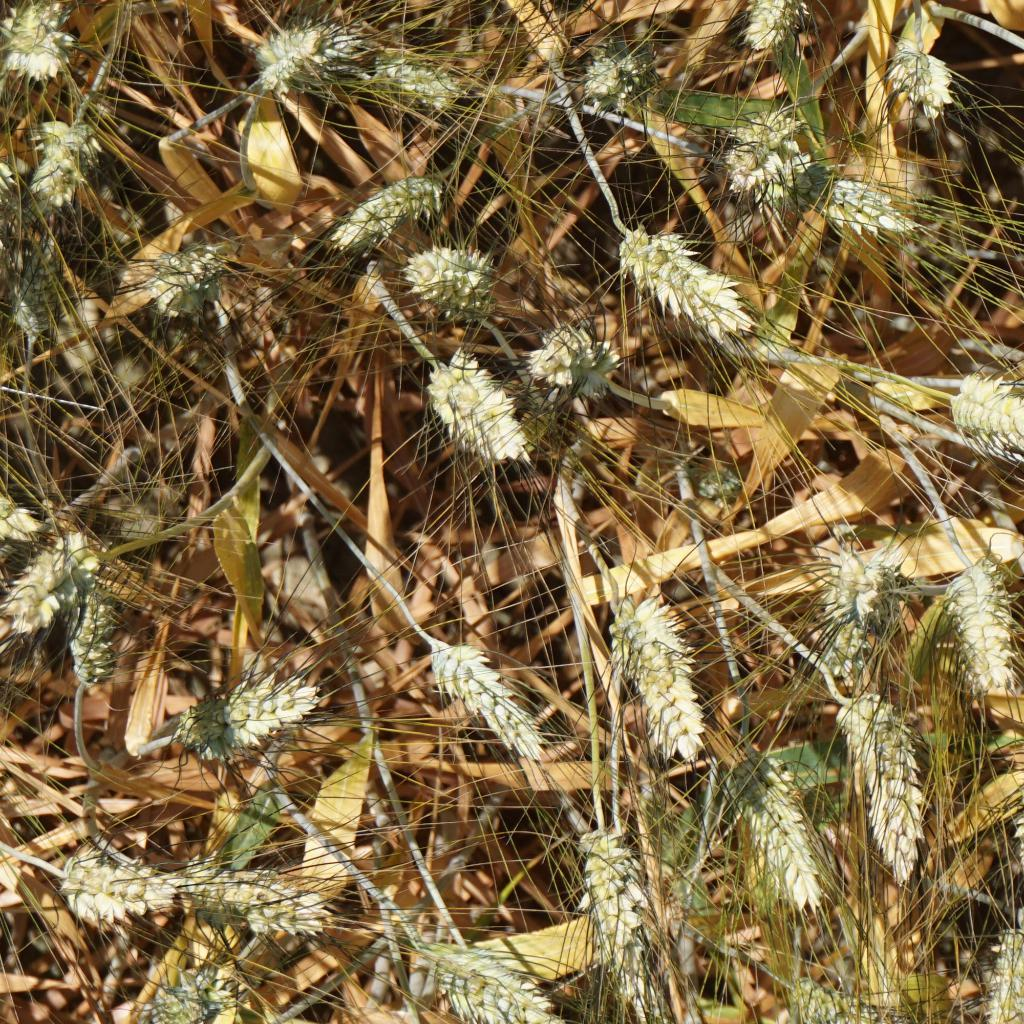0-0: (723, 738, 832, 914), (823, 685, 923, 874), (607, 217, 755, 341), (570, 828, 665, 1016), (607, 597, 712, 760), (423, 644, 544, 763), (400, 931, 546, 1024), (947, 554, 1024, 704), (416, 361, 528, 464), (173, 861, 324, 937), (170, 671, 314, 748), (325, 175, 446, 252), (809, 540, 900, 634), (0, 523, 76, 635), (51, 850, 163, 920), (534, 320, 625, 406), (402, 246, 497, 327), (777, 967, 910, 1024), (723, 105, 809, 192), (133, 958, 243, 1024), (24, 109, 93, 211), (890, 49, 968, 136), (823, 169, 920, 236), (67, 583, 124, 691), (940, 375, 1024, 448), (260, 19, 345, 88), (580, 44, 669, 109), (0, 0, 68, 83), (11, 239, 60, 352), (139, 239, 233, 297), (981, 904, 1024, 1024), (804, 611, 873, 681), (382, 56, 473, 106), (739, 0, 813, 55), (0, 466, 51, 539), (692, 455, 742, 500), (0, 0, 7, 29)
